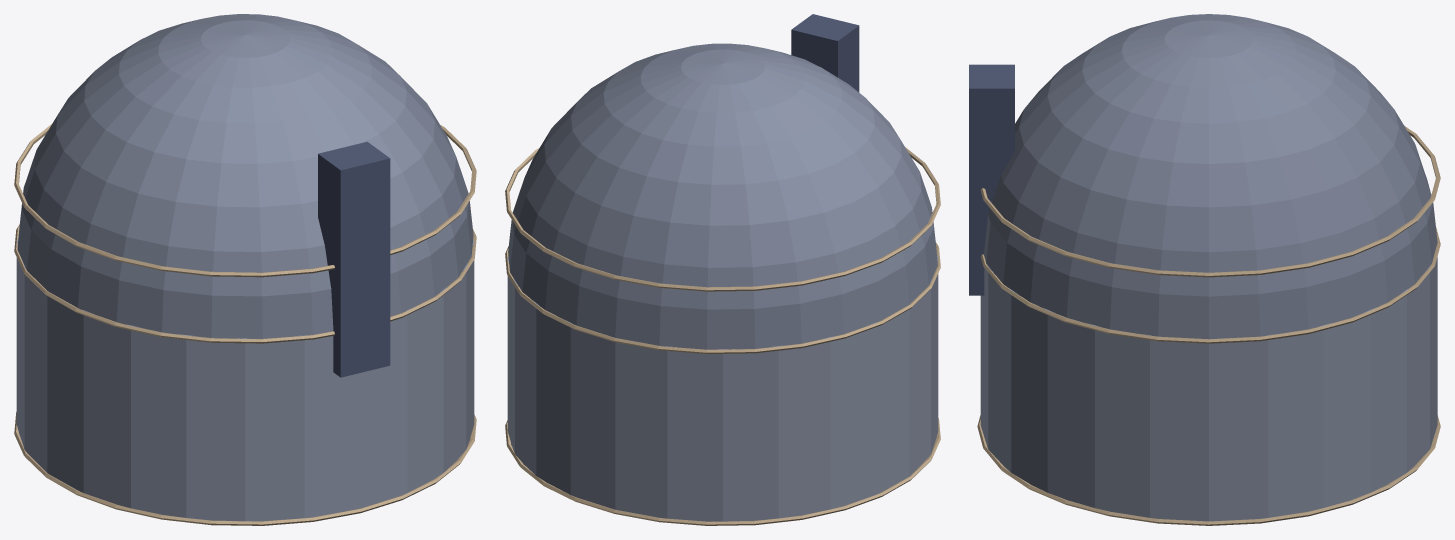
Rendered from observatorio_secundario.glb.
The picture shows the model from 3 angles, left to right: view 1: azimuth 30°, elevation 25°; view 2: azimuth 150°, elevation 25°; view 3: azimuth 270°, elevation 25°; orthographic projection. The views are drawn at different scales.
Parts seen in each view (by area): view 1: observatorio_secundario; view 2: observatorio_secundario; view 3: observatorio_secundario.
Boxes of the visible parts, left/top/right/bottom form: observatorio_secundario: left=14, top=14, right=476, bottom=525; observatorio_secundario: left=505, top=14, right=940, bottom=525; observatorio_secundario: left=969, top=14, right=1440, bottom=525.
Bounding box in the file's own units: 20.28 × 19 × 20.64.
